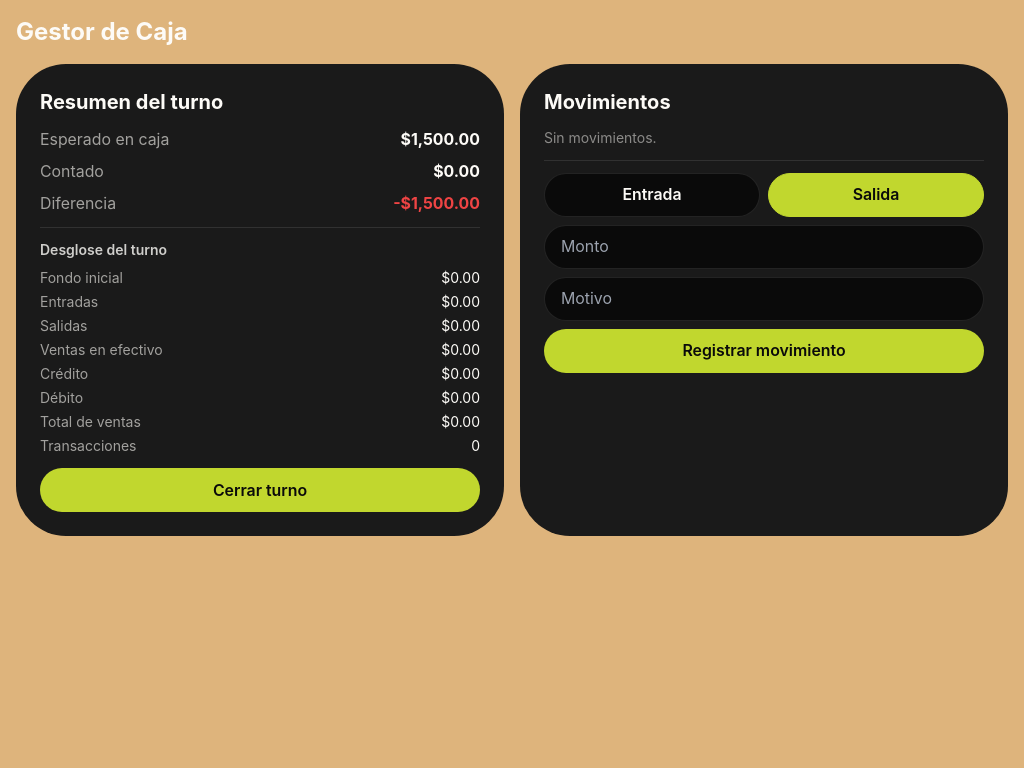
it: F10.4 — criterio 5: "Guardar" muestra la confirmación › envía el contexto y muestra "Contexto del día registrado"
expect the heading "Resumen del turno" is shown: met, box top-left (40, 90), bottom-right (223, 114)
Click the button "Cerrar turno".
click(260, 490)  # box top-left (40, 468), bottom-right (480, 512)
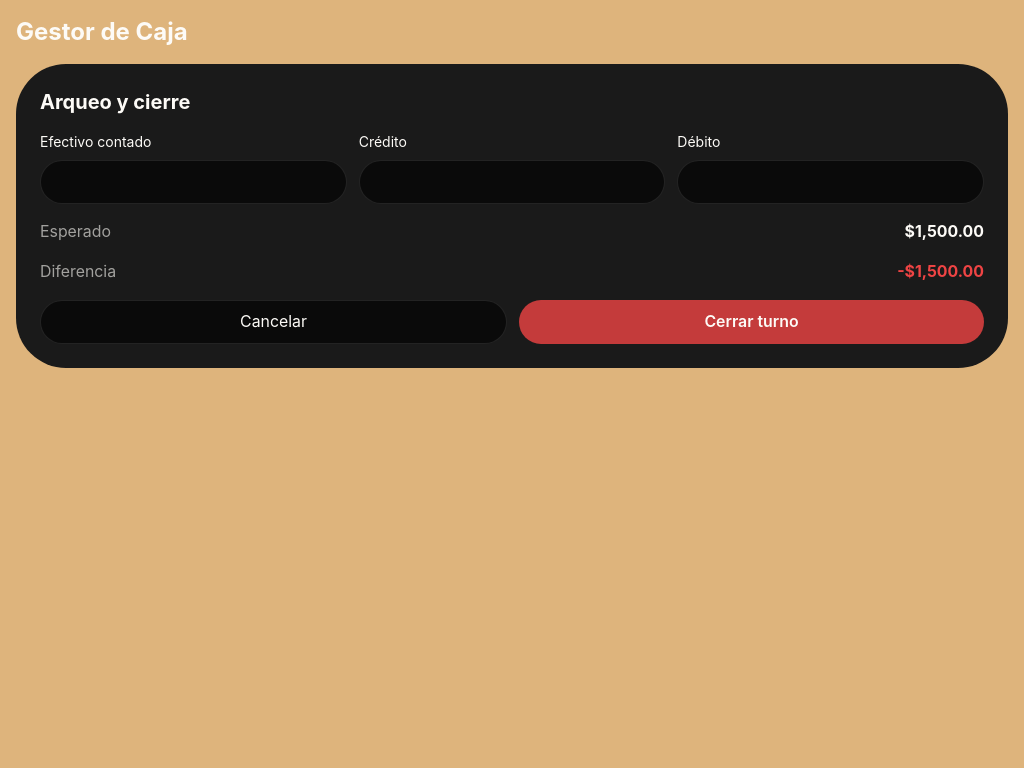
expect the heading "Arqueo y cierre" is shown: met, box top-left (40, 90), bottom-right (190, 114)
Click the button "Cerrar turno".
click(752, 322)  # box top-left (519, 300), bottom-right (984, 344)
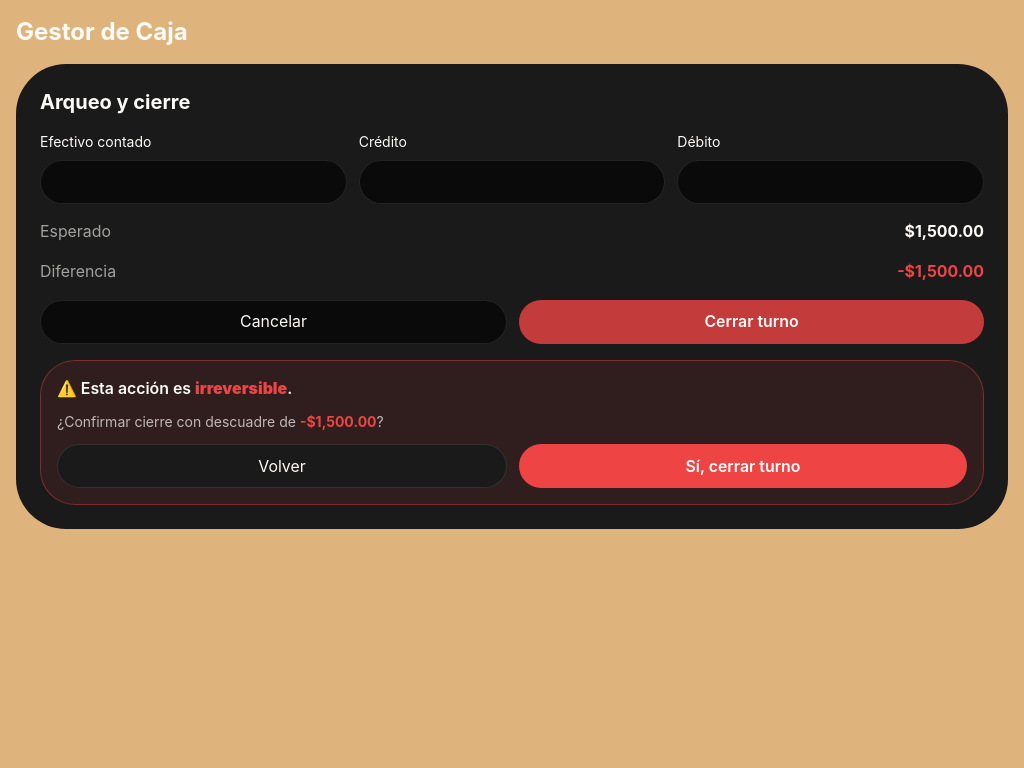
Click the button "Sí, cerrar turno".
click(743, 466)  # box top-left (519, 444), bottom-right (967, 488)
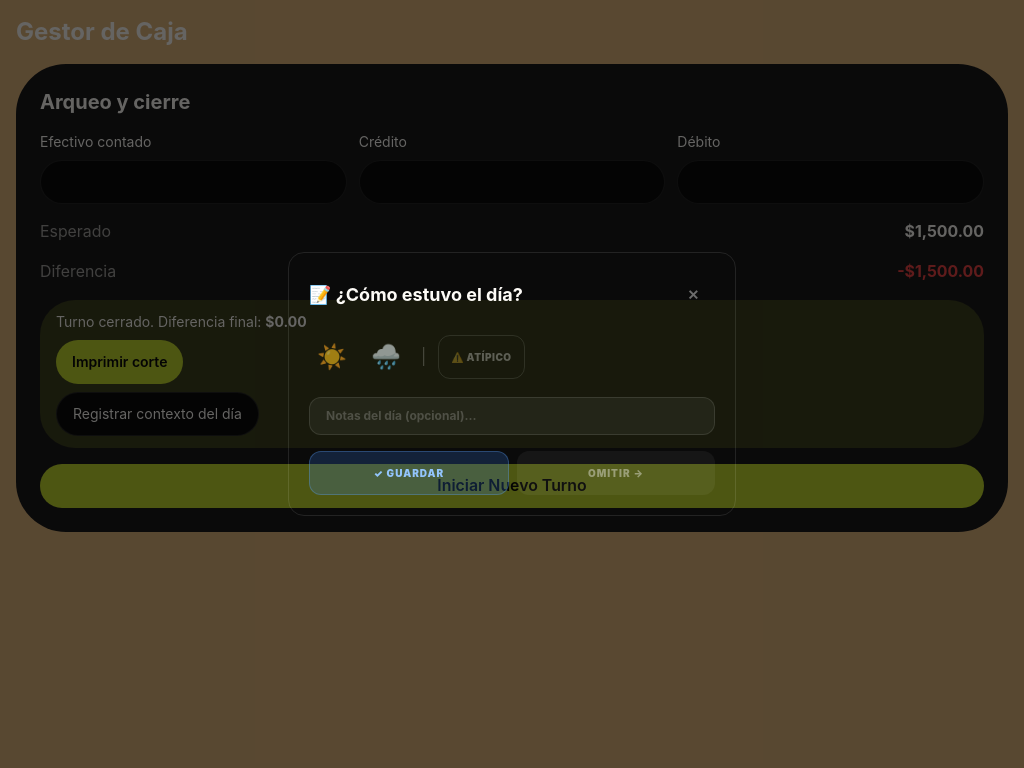
expect the button "✓ Guardar" is shown: met
Click the button "✓ Guardar".
click(409, 473)  # box top-left (309, 451), bottom-right (509, 495)
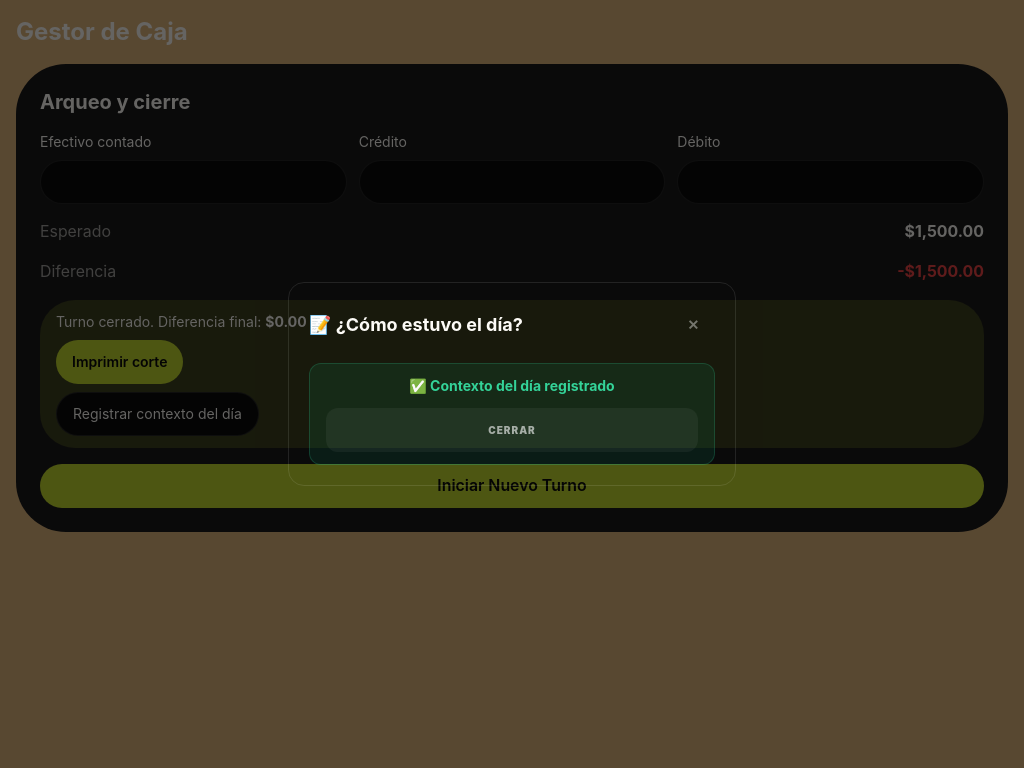
expect the text "✅ Contexto del día registrado" is shown: met, box top-left (409, 377), bottom-right (615, 394)
Click the button "Cerrar".
click(512, 430)  # box top-left (326, 408), bottom-right (698, 452)
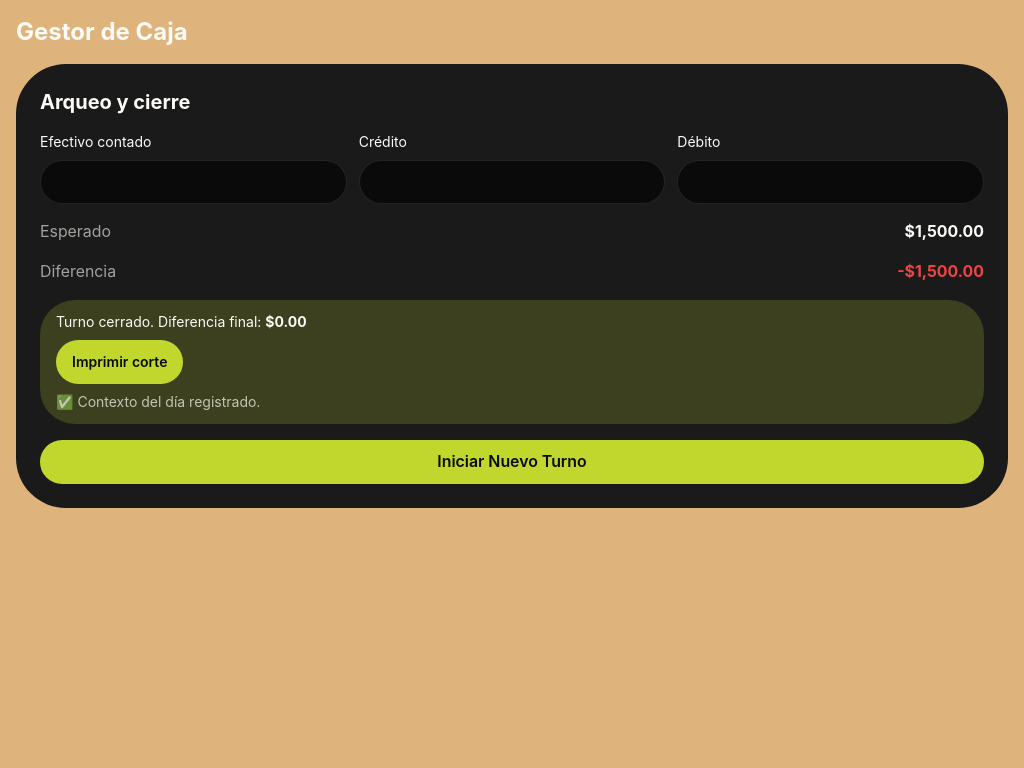
expect the text "✅ Contexto del día registrado." is shown: met, box top-left (56, 393), bottom-right (260, 410)
